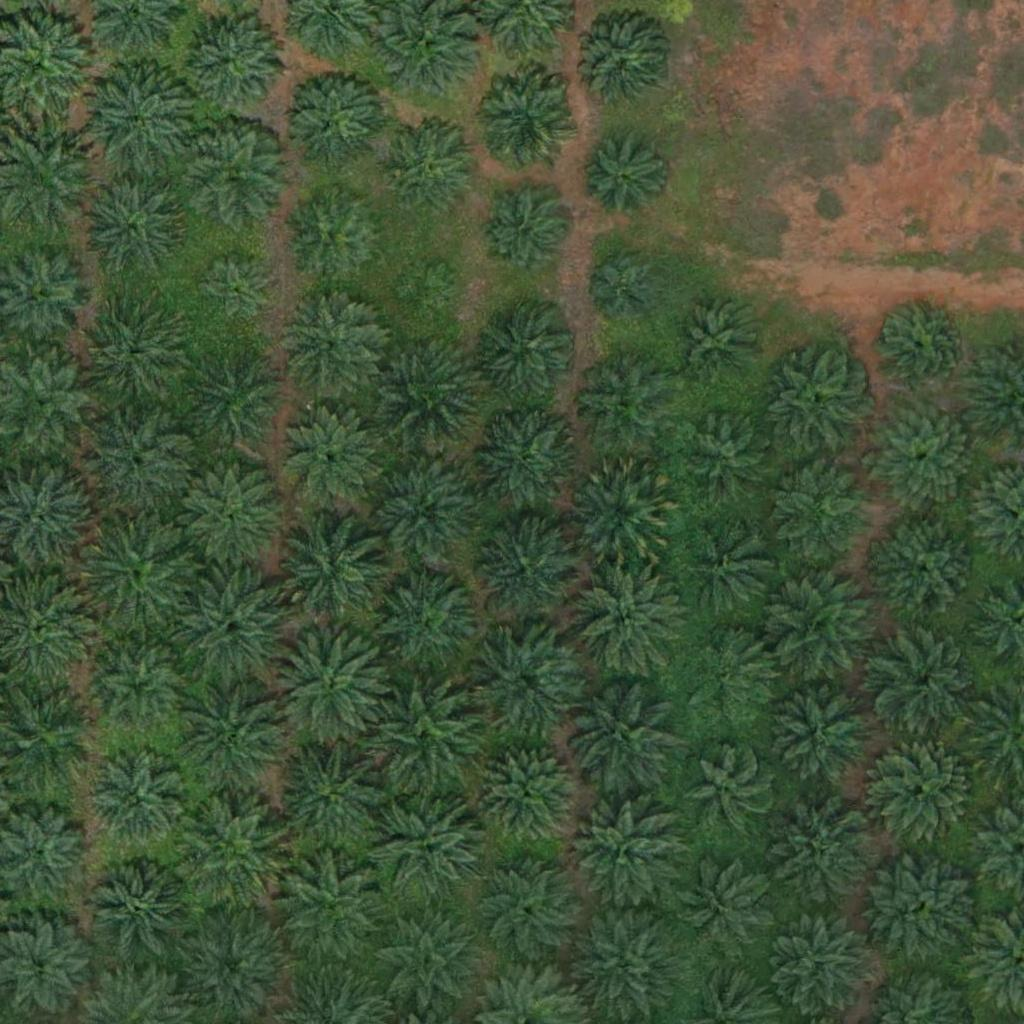Kelapa_Sawit: (178, 677, 291, 791), (276, 853, 389, 967), (867, 401, 980, 515), (871, 513, 984, 627), (369, 908, 482, 1022), (565, 457, 678, 570), (468, 298, 581, 411), (84, 66, 197, 179), (82, 510, 195, 623), (179, 570, 292, 683), (273, 631, 386, 744), (275, 740, 388, 853), (569, 561, 682, 674), (564, 678, 677, 791), (568, 800, 681, 913), (766, 908, 879, 1021), (179, 802, 291, 916), (469, 406, 581, 519), (370, 335, 482, 448), (368, 457, 480, 570), (80, 407, 192, 520), (276, 511, 388, 624), (366, 564, 478, 677), (365, 680, 477, 793), (373, 794, 485, 907), (468, 627, 580, 740), (472, 851, 584, 964), (571, 908, 683, 1021), (769, 571, 881, 684), (767, 679, 879, 792), (871, 628, 983, 741), (870, 852, 982, 965), (573, 354, 673, 455), (384, 117, 484, 218), (282, 66, 382, 167), (286, 185, 386, 286), (278, 293, 378, 394), (278, 404, 378, 505), (182, 11, 282, 112), (183, 123, 283, 224), (185, 349, 285, 450), (183, 465, 283, 566), (83, 172, 183, 273), (80, 305, 180, 406), (92, 863, 192, 964), (474, 519, 574, 620), (477, 742, 577, 843), (775, 803, 875, 904), (873, 739, 973, 840), (573, 12, 673, 112), (474, 72, 574, 172), (87, 750, 187, 850), (766, 353, 866, 453), (779, 463, 879, 563), (578, 136, 666, 224), (673, 298, 761, 386), (93, 647, 181, 735), (684, 528, 772, 616), (689, 418, 776, 506), (480, 188, 567, 276), (688, 632, 775, 720), (683, 746, 770, 834), (684, 862, 771, 950), (874, 301, 961, 389), (196, 255, 271, 330), (591, 256, 654, 319), (393, 259, 455, 322)
